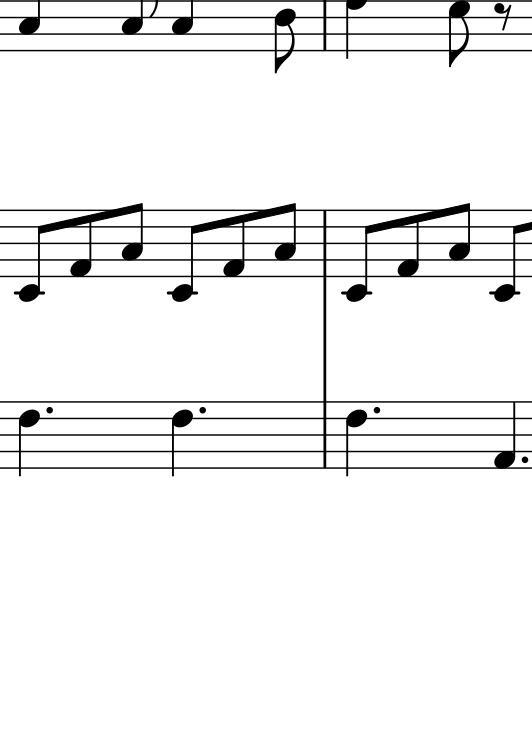4_1: (491, 399, 519, 473)
4_6: (344, 398, 370, 475), (17, 399, 41, 473), (171, 400, 194, 477)
8_-2: (11, 209, 50, 302), (168, 209, 206, 303), (488, 207, 524, 303), (342, 207, 376, 304)
8_1: (220, 207, 247, 279), (69, 208, 95, 278), (395, 207, 420, 276)
8_3: (118, 201, 144, 279), (273, 201, 299, 278), (447, 201, 473, 278)
Single_barline: (316, 208, 336, 278), (317, 401, 332, 469)
dot: (369, 402, 384, 418), (196, 402, 210, 418), (43, 402, 56, 418)
